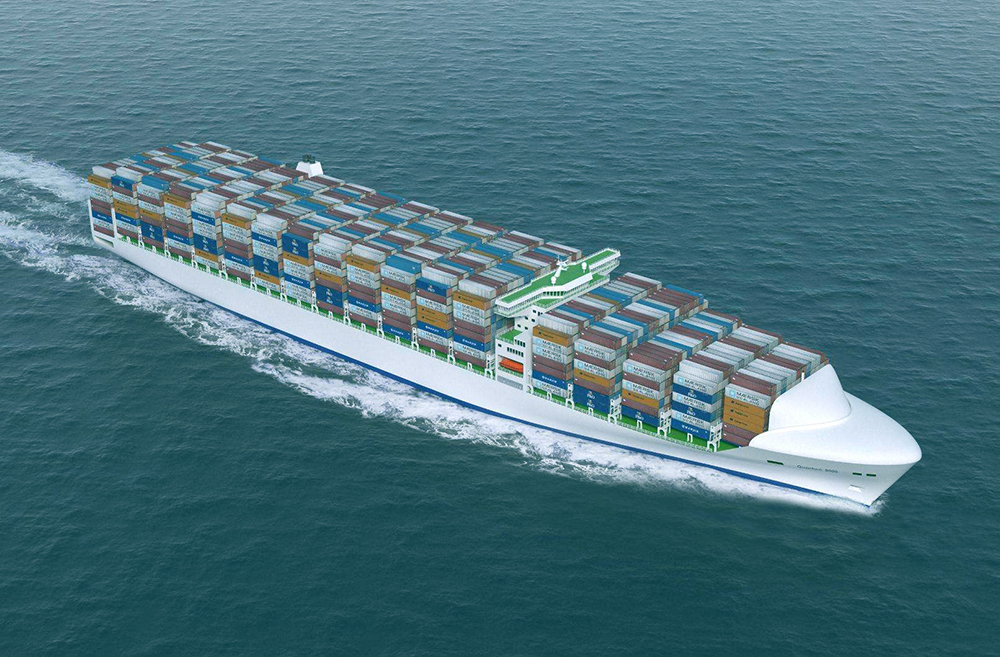Cargoship: (75, 134, 923, 515)
